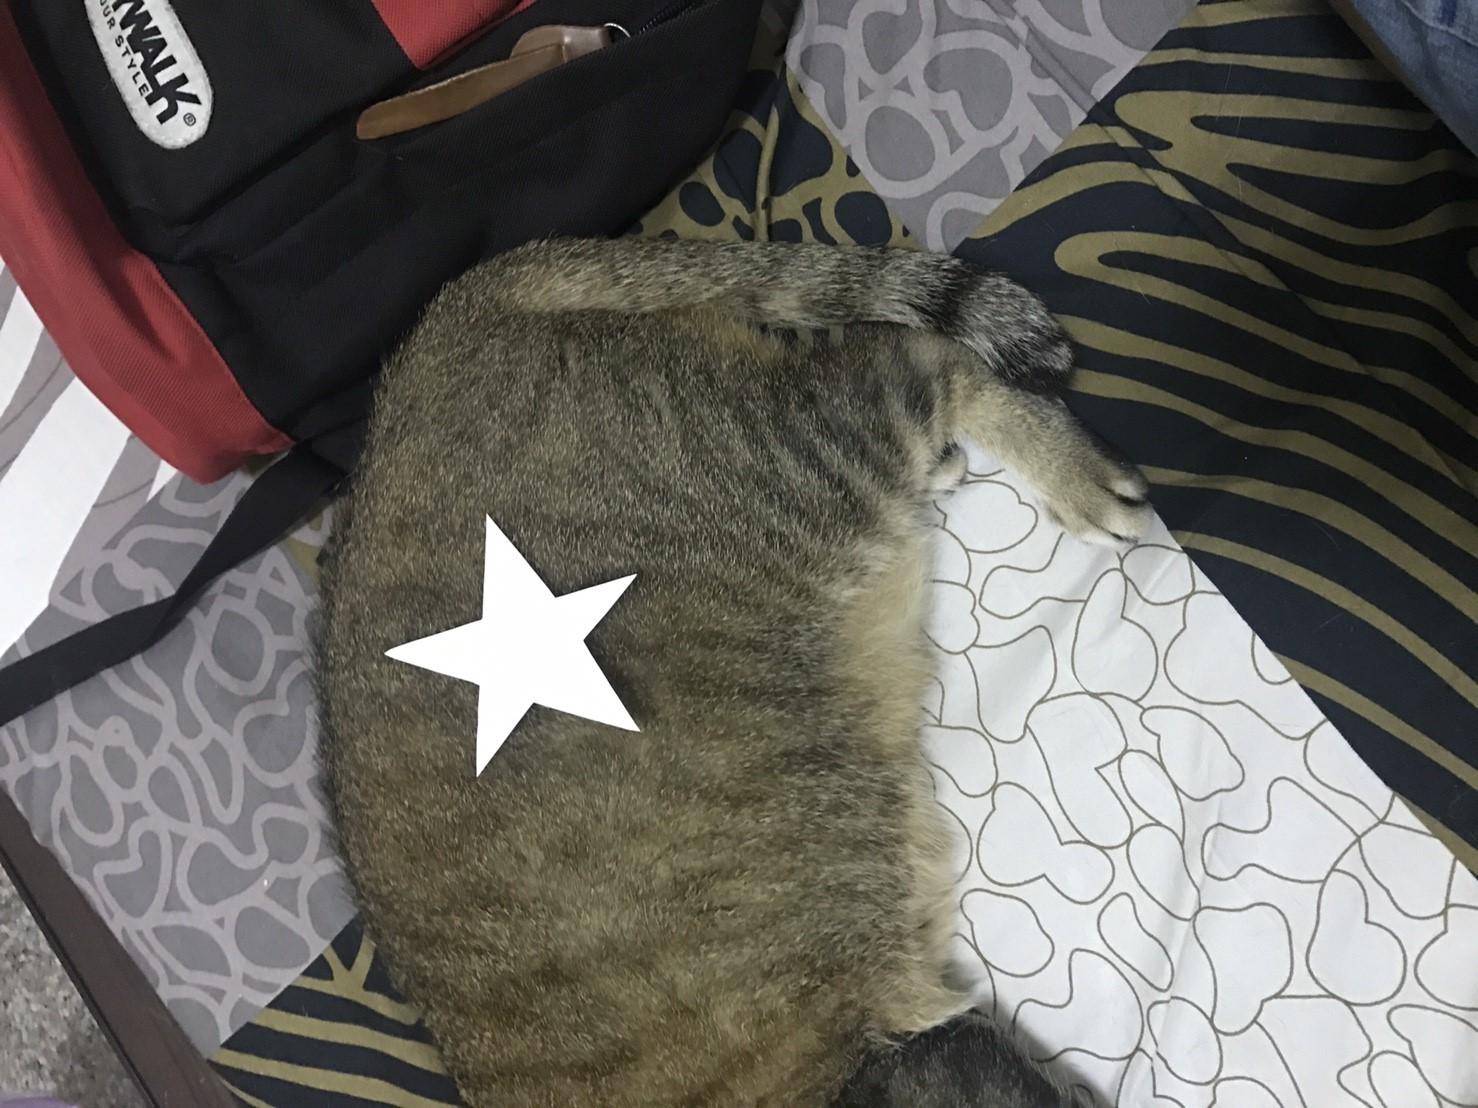star: (367, 503, 691, 797)
